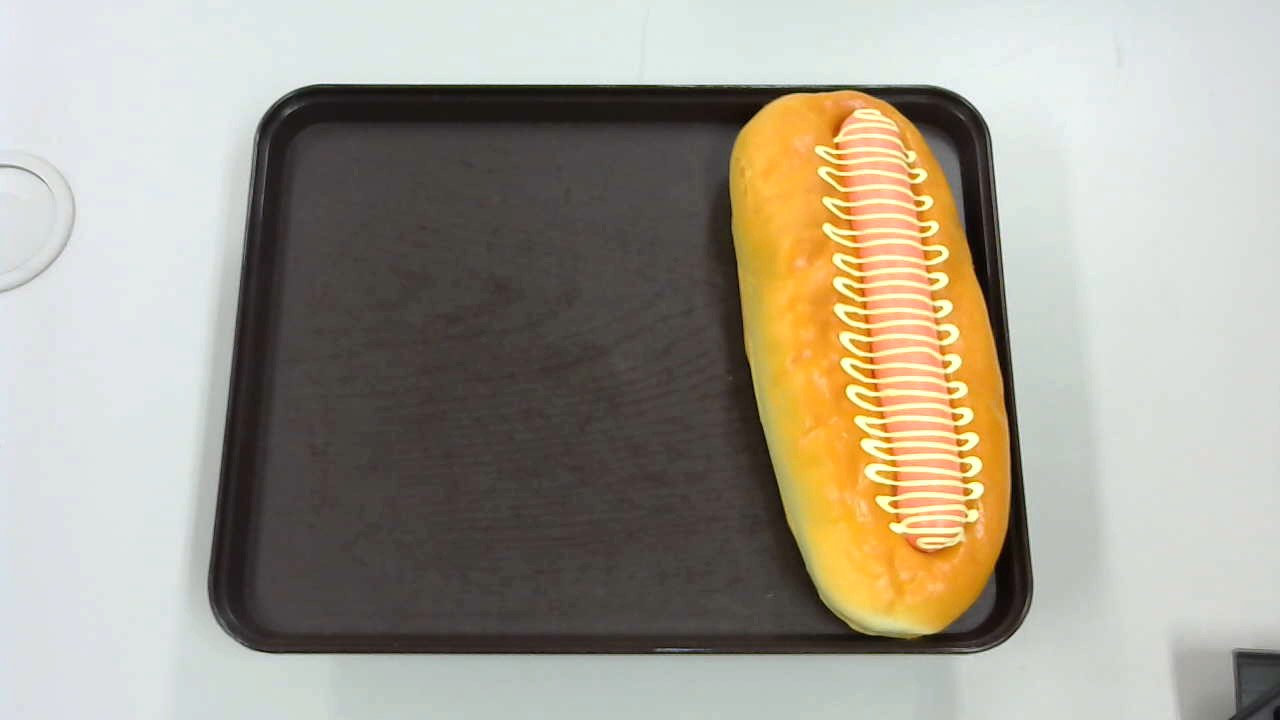hot dog: (729, 88, 1012, 642)
